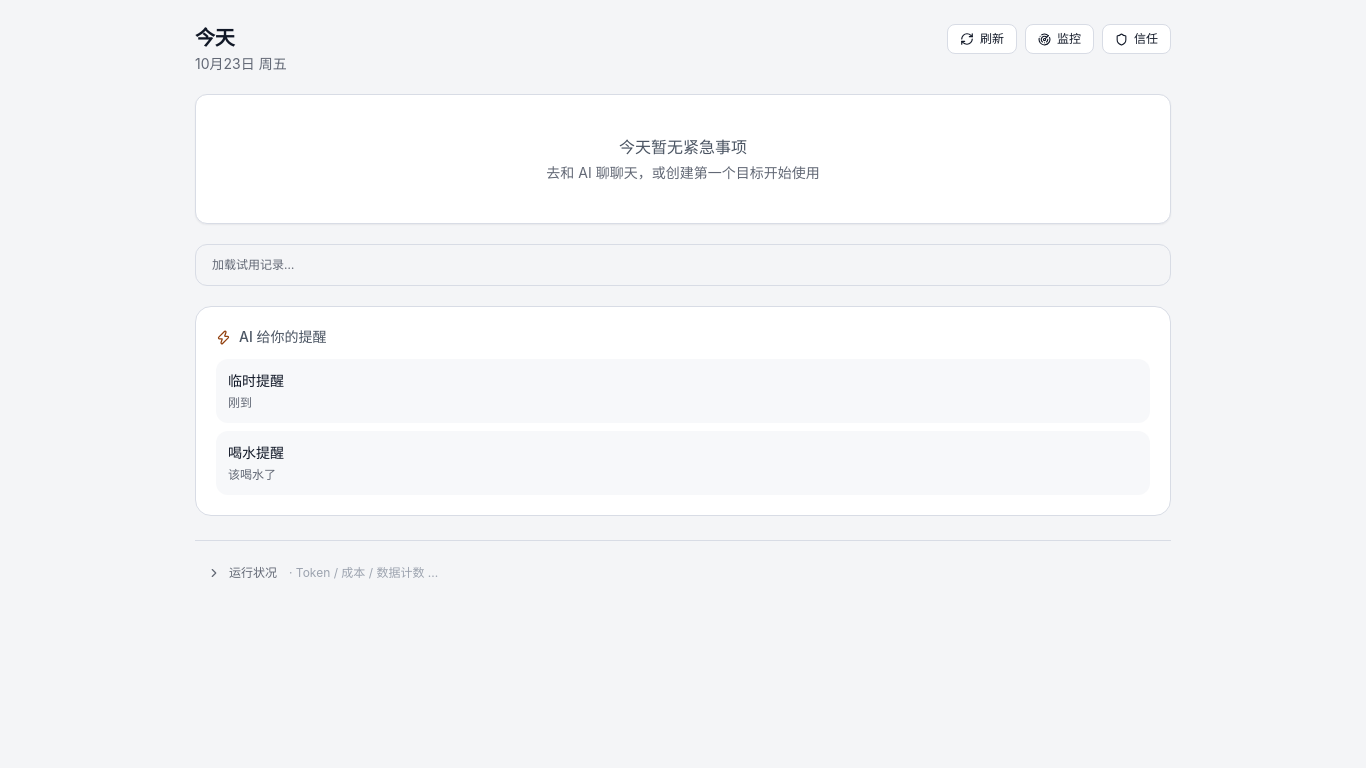
Test case: DashboardPage › does not mark a live reminder read
Click the button "临时提醒 刚到".
click(256, 380)  # box [216,359,1150,423]
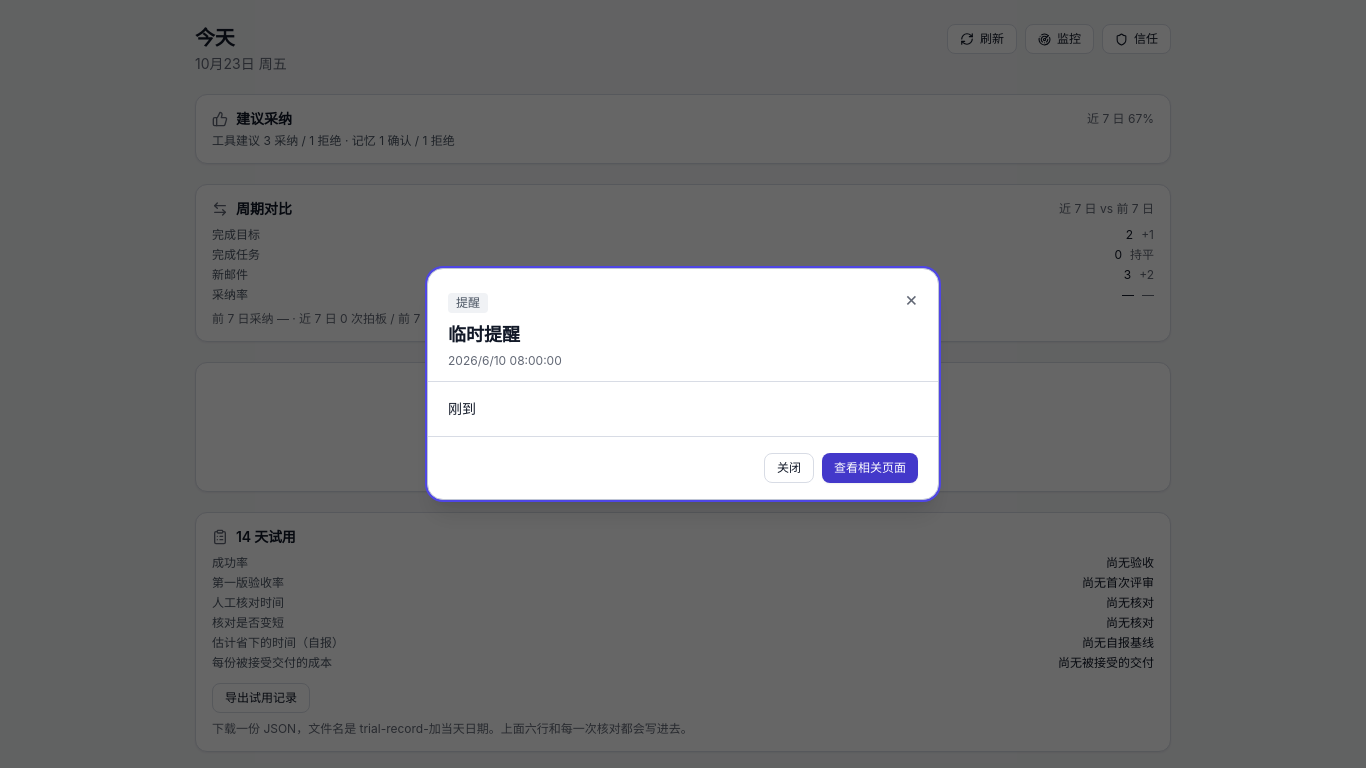
Check: the dialog "临时提醒" is shown, box [427,268,939,500]
